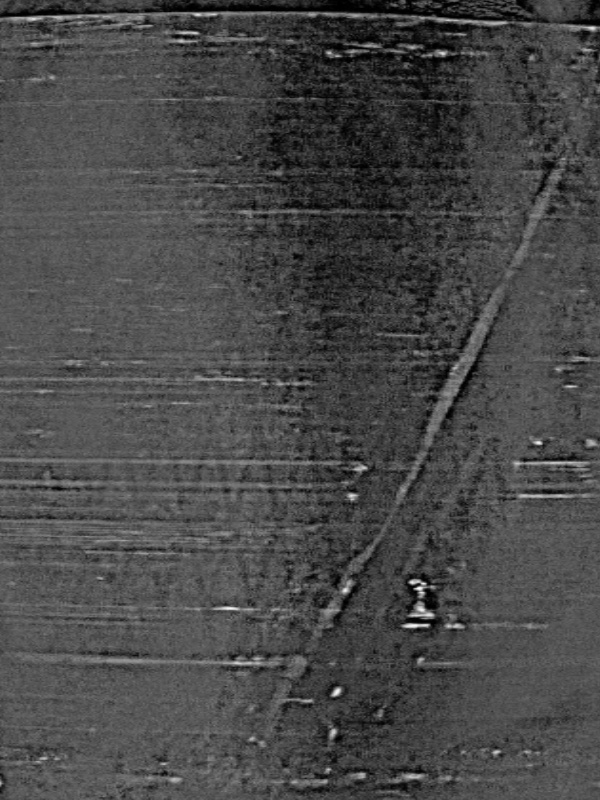splice_vulcanized: (193, 30, 598, 798)
